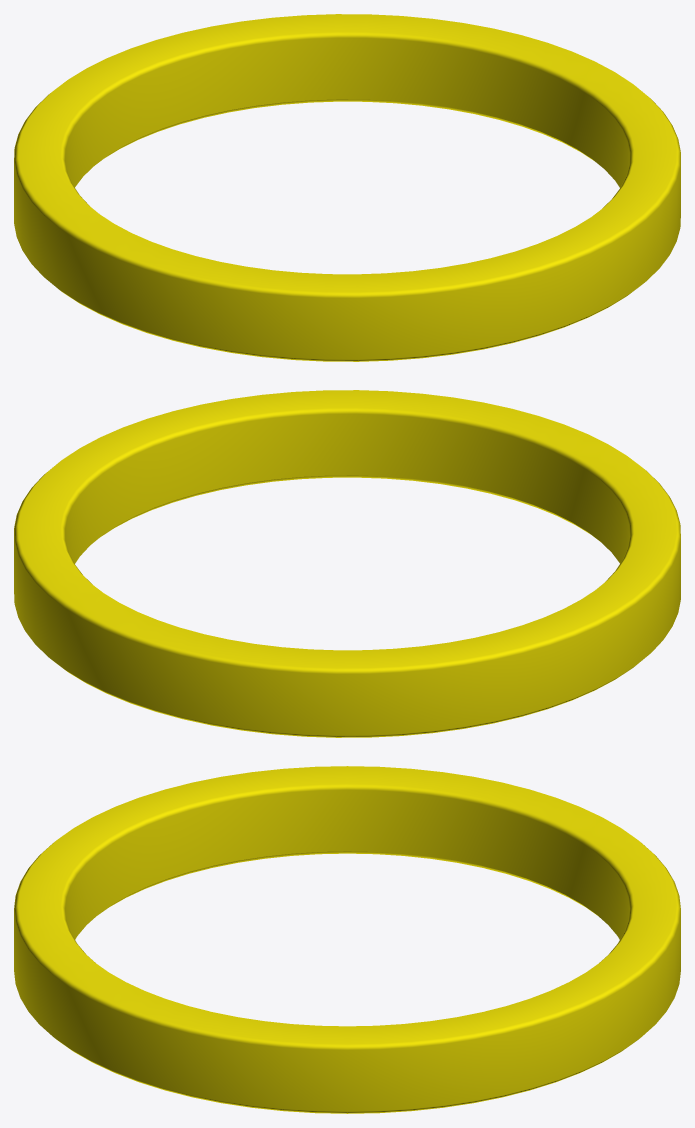
3 views of the same model, one above another, from view 1: azimuth 30°, elevation 25°; view 2: azimuth 150°, elevation 25°; view 3: azimuth 270°, elevation 25° (orthographic).
Parts seen in each view (by area): view 1: seal_body; view 2: seal_body; view 3: seal_body.
Part boxes in pixels (bbox=[...]): seal_body: bbox=[14, 14, 680, 361]; seal_body: bbox=[14, 390, 680, 737]; seal_body: bbox=[14, 766, 680, 1113].
Bounding box in the file's own units: 0.0825 × 0.00952 × 0.0825.
